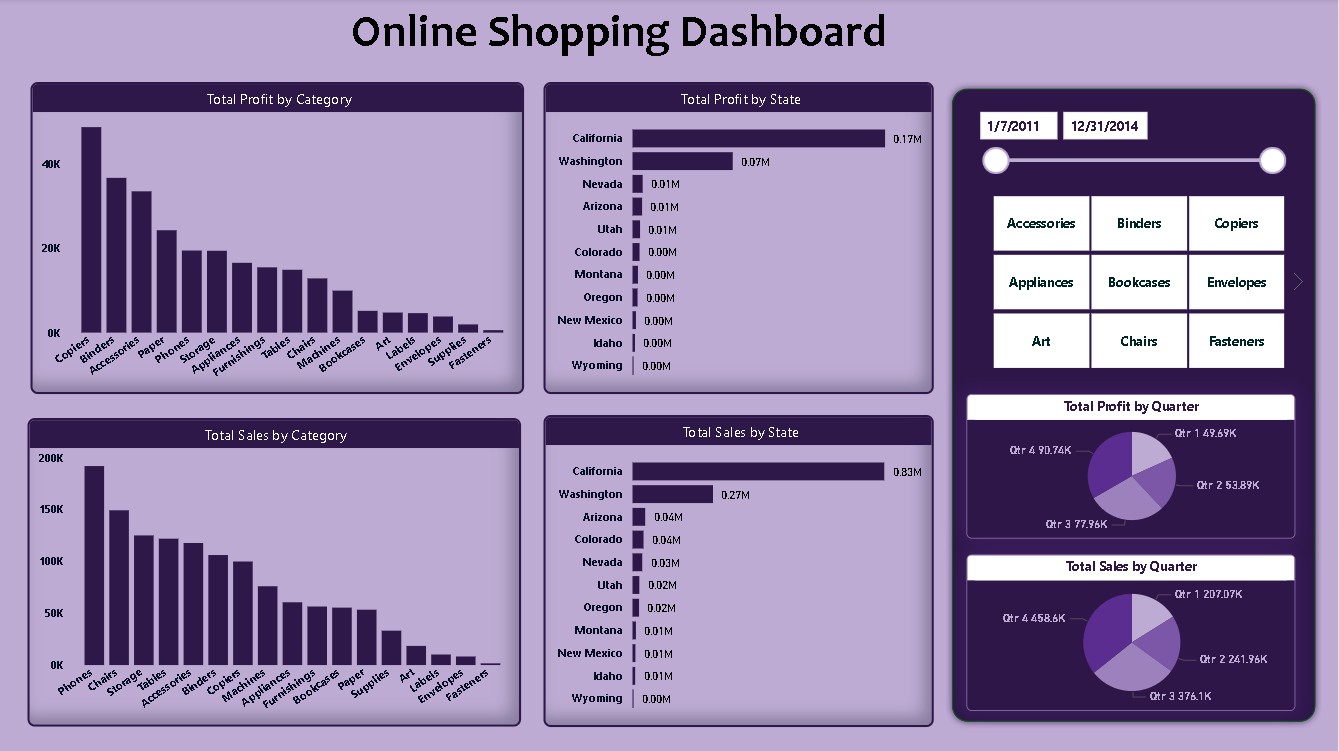

This screenshot's page, from the dashboard's own definition file:
{"tool":"powerbi","page":{"name":"Page 1","canvas":[1280,720],"ordinal":0},"visuals":[{"type":"textbox","box":[331,0,541.4,79.3],"z":0},{"type":"clusteredColumnChart","title":"Total Profit by Category","fields":{"Category":["Amazon.Category"],"Y":["Sum(Amazon.Profit)"]},"box":[30.5,79.7,471.2,298.3],"z":1000},{"type":"clusteredColumnChart","title":"Total Sales by Category","fields":{"Category":["Amazon.Category"],"Y":["Sum(Amazon.Sales)"]},"box":[27.1,401.7,471.2,294.9],"z":2000},{"type":"clusteredBarChart","title":"Total Profit by State","fields":{"Category":["Amazon.State"],"Y":["Sum(Amazon.Profit)"]},"box":[520.3,79.7,372.9,298.3],"z":3000},{"type":"clusteredBarChart","title":"Total Sales by State","fields":{"Category":["Amazon.State"],"Y":["Sum(Amazon.Sales)"]},"box":[520.3,398.3,372.9,298.3],"z":4000},{"type":"shape","box":[903.5,79.5,359.5,617.2],"z":5000},{"type":"pieChart","title":"Total Profit by Quarter","fields":{"Category":["Amazon.Order Date.Variation.Date Hierarchy.Quarter"],"Y":["Sum(Amazon.Profit)"]},"box":[924.1,378,313.7,138],"z":6000},{"type":"pieChart","title":"Total Sales by Quarter","fields":{"Category":["Amazon.Order Date.Variation.Date Hierarchy.Quarter"],"Y":["Sum(Amazon.Sales)"]},"box":[924.1,531,313.7,149.3],"z":7000},{"type":"slicer","fields":{"Values":["Amazon.Order Date"]},"box":[924.1,98.3,313.7,69.9],"z":8000},{"type":"slicer","fields":{"Values":["Amazon.Category"]},"box":[924.1,181.3,327.7,178.1],"z":9000}]}

Visuals, with their boxes in screenshot pixels (x1, y1, x2, y2), scaled from the page's 1280x720 canvas onto the 1339x751 screenshot:
textbox: (x1=346, y1=0, x2=913, y2=83)
"Total Profit by Category" clusteredColumnChart: (x1=32, y1=83, x2=525, y2=394)
"Total Sales by Category" clusteredColumnChart: (x1=28, y1=419, x2=521, y2=727)
"Total Profit by State" clusteredBarChart: (x1=544, y1=83, x2=934, y2=394)
"Total Sales by State" clusteredBarChart: (x1=544, y1=415, x2=934, y2=727)
shape: (x1=945, y1=83, x2=1321, y2=727)
"Total Profit by Quarter" pieChart: (x1=967, y1=394, x2=1295, y2=538)
"Total Sales by Quarter" pieChart: (x1=967, y1=554, x2=1295, y2=710)
slicer - Amazon.Order Date: (x1=967, y1=103, x2=1295, y2=175)
slicer - Amazon.Category: (x1=967, y1=189, x2=1310, y2=375)
